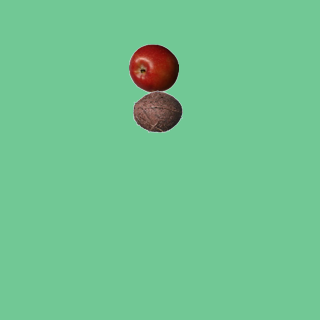Apple Braeburn: (128, 43, 178, 93)
Cocos: (132, 86, 182, 136)
